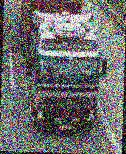truck: (16, 0, 109, 135)
